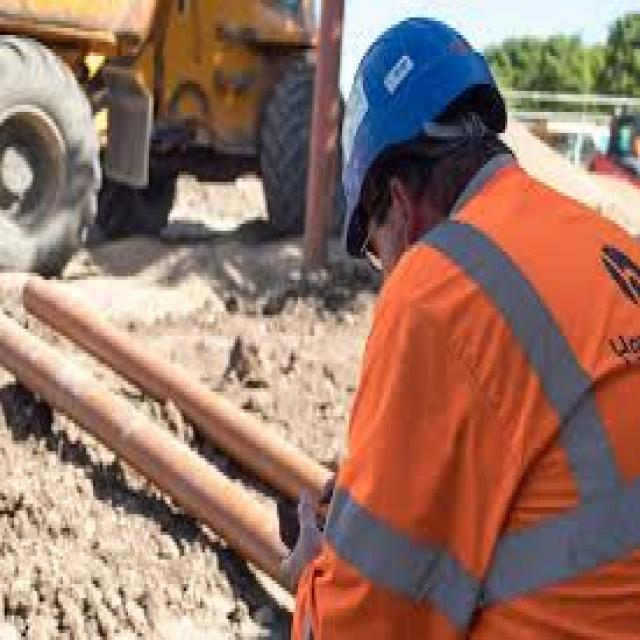Reflective-Jacket: (284, 161, 638, 622)
Safety-Helmet: (328, 14, 507, 203)
